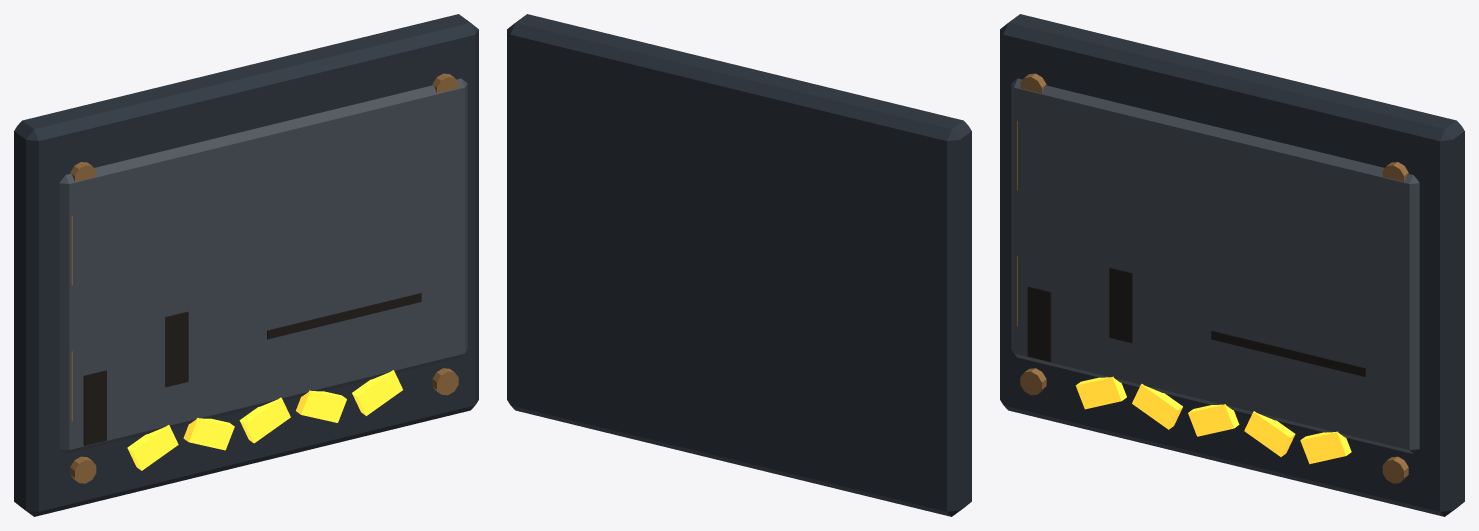
File: runtime.glb
3 renders of one model, left to right at view 1: azimuth 30°, elevation 25°; view 2: azimuth 150°, elevation 25°; view 3: azimuth 330°, elevation 25°, orthographic.
Visible parts, largest first — view 1: kinetic-tide-maintenance-panel-v02_plate_nocol, kinetic-tide-maintenance-panel-v02_steel_nocol, kinetic-tide-maintenance-panel-v02_warningorange_nocol, kinetic-tide-maintenance-panel-v02_weardark_nocol, kinetic-tide-maintenance-panel-v02_bronze_nocol; view 2: kinetic-tide-maintenance-panel-v02_steel_nocol; view 3: kinetic-tide-maintenance-panel-v02_plate_nocol, kinetic-tide-maintenance-panel-v02_steel_nocol, kinetic-tide-maintenance-panel-v02_warningorange_nocol, kinetic-tide-maintenance-panel-v02_weardark_nocol, kinetic-tide-maintenance-panel-v02_bronze_nocol.
Part boxes in pixels (x1,y1,x2,y2): kinetic-tide-maintenance-panel-v02_plate_nocol: (59, 78, 467, 453); kinetic-tide-maintenance-panel-v02_steel_nocol: (14, 14, 478, 516); kinetic-tide-maintenance-panel-v02_warningorange_nocol: (127, 370, 402, 470); kinetic-tide-maintenance-panel-v02_weardark_nocol: (83, 293, 421, 445); kinetic-tide-maintenance-panel-v02_bronze_nocol: (70, 73, 458, 483); kinetic-tide-maintenance-panel-v02_steel_nocol: (507, 14, 971, 516); kinetic-tide-maintenance-panel-v02_plate_nocol: (1011, 78, 1419, 453); kinetic-tide-maintenance-panel-v02_steel_nocol: (1000, 14, 1464, 516); kinetic-tide-maintenance-panel-v02_warningorange_nocol: (1075, 376, 1351, 464); kinetic-tide-maintenance-panel-v02_weardark_nocol: (1027, 267, 1365, 376); kinetic-tide-maintenance-panel-v02_bronze_nocol: (1016, 73, 1408, 483).
Bounding box in the file's own units: 2.2 × 1.8 × 0.2707.
